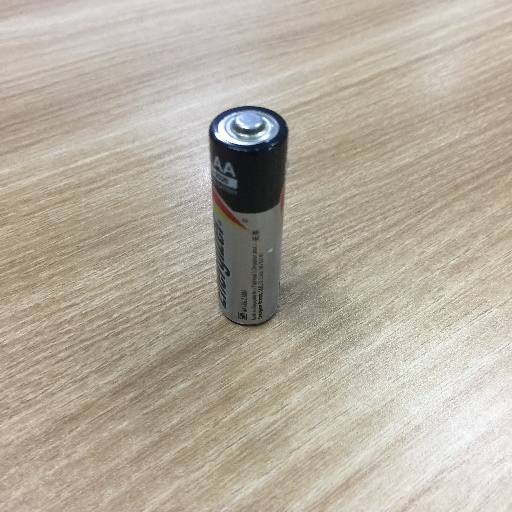Battery_0: (203, 96, 303, 344)
